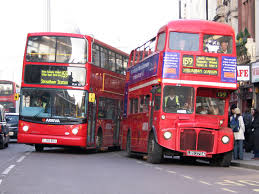bus: (123, 18, 238, 169), (17, 30, 128, 154)
